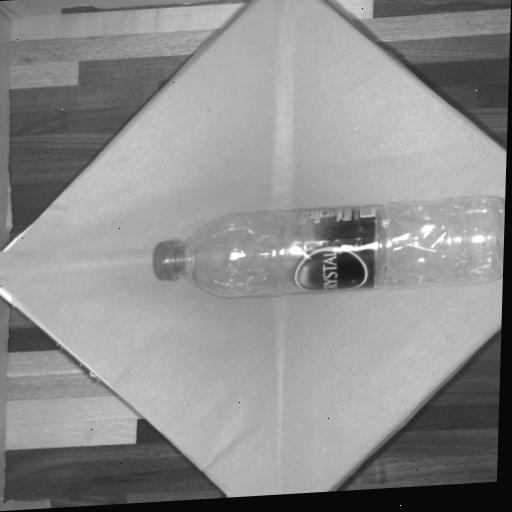bottle: (154, 197, 504, 296)
